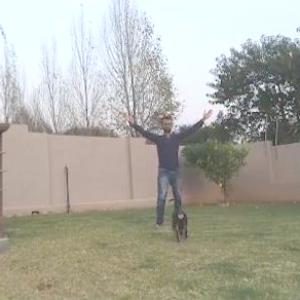takeoff: (115, 109, 207, 223)
